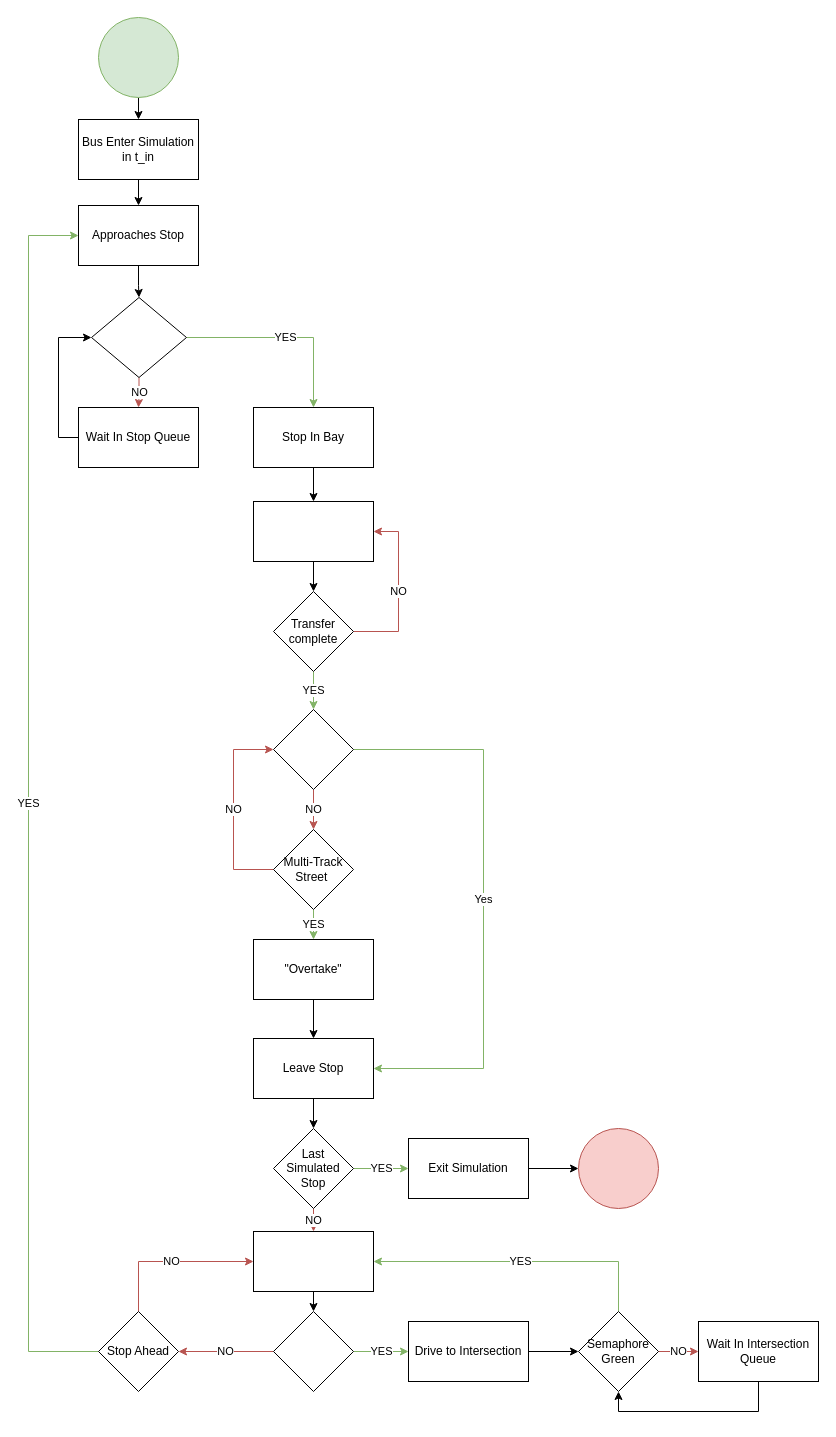
This 836x1437 diagram has some shape labels left out. Each missing label, with the centre of its shape:
Empty Bay in stop: (x=138, y=337)
Empty Exit Ahead: (x=313, y=749)
END: (x=618, y=1168)
Intersection Ahead: (x=313, y=1351)
Load/Unload Passengers: (x=313, y=531)
Resume Driving: (x=313, y=1261)
Start: (x=138, y=57)
